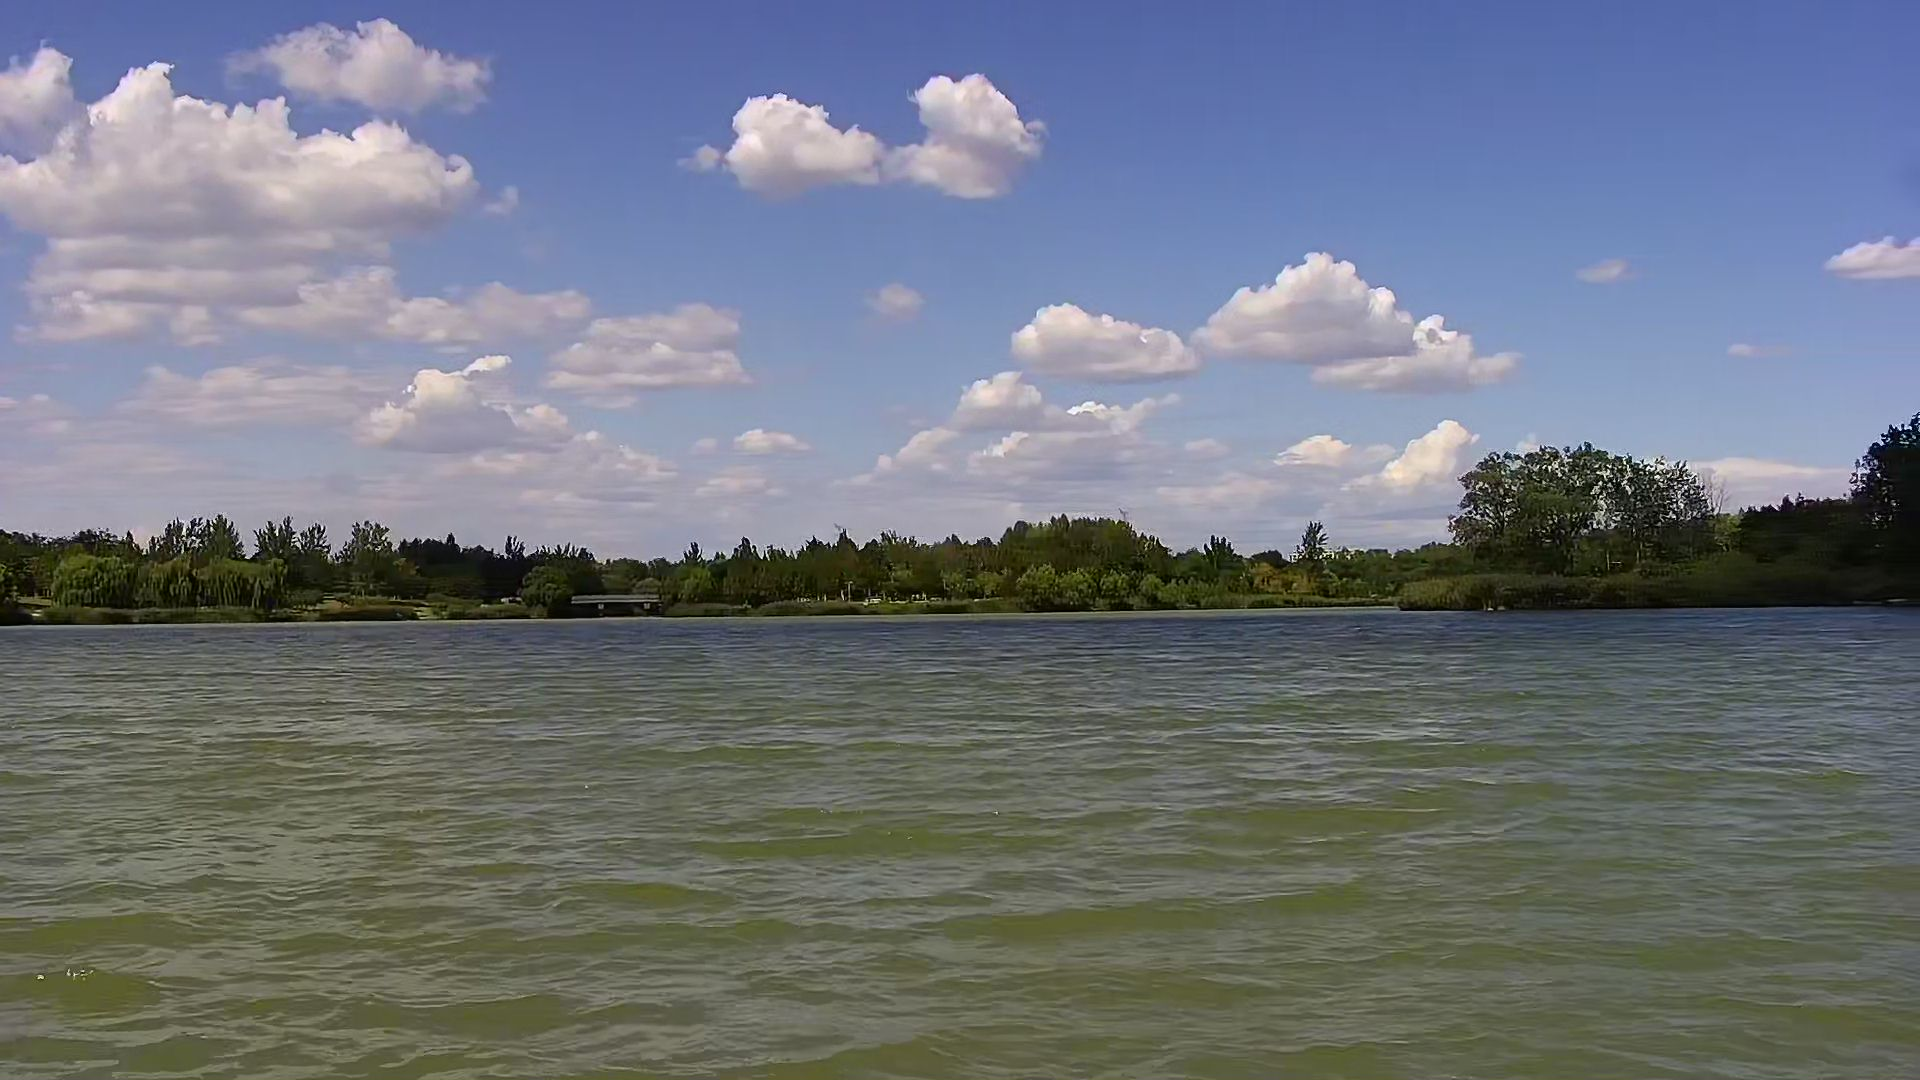bridge: (571, 587, 667, 621)
